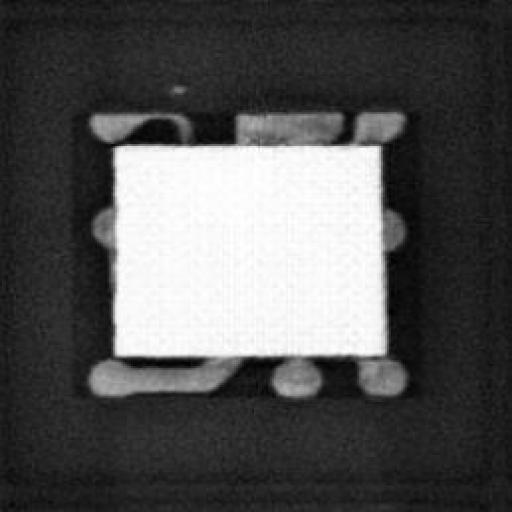DIE_INK: (166, 78, 184, 95)
